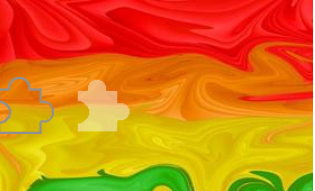target: (75, 76, 133, 136)
